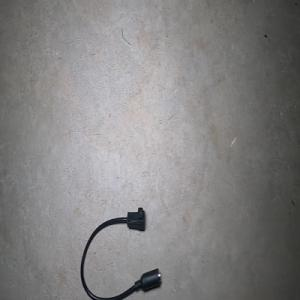Wire: (80, 207, 161, 300)
